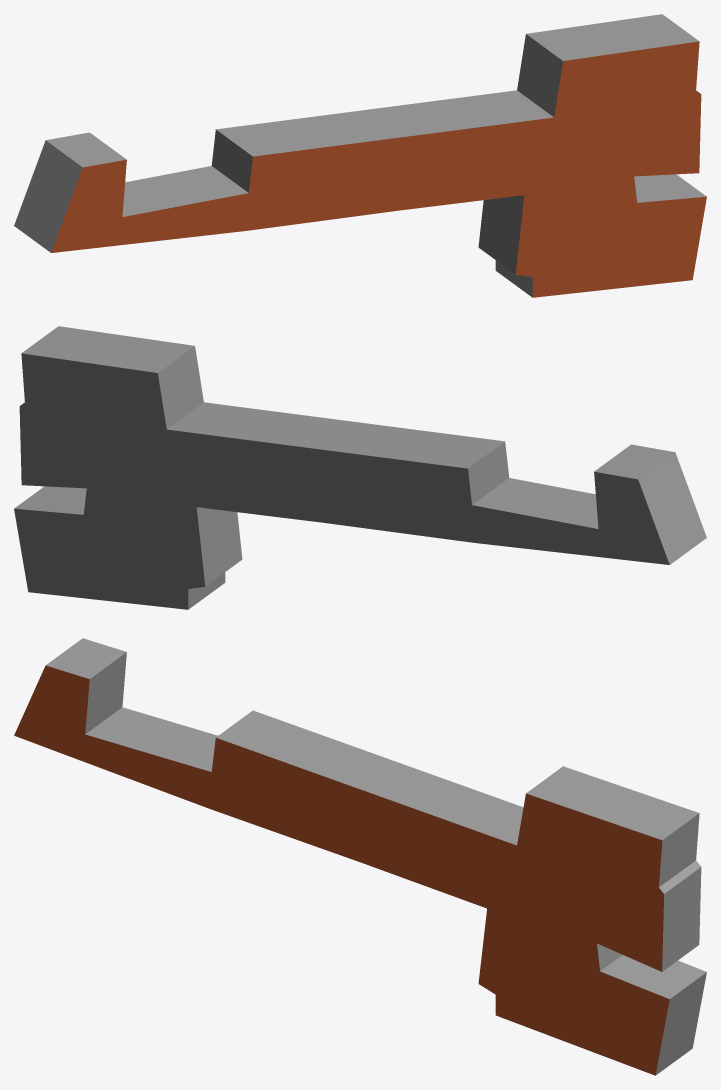
File: construction_4161_assumed_A_Casa_h6m.obj
The picture shows the model from 3 angles, top to bottom: view 1: azimuth 30°, elevation 25°; view 2: azimuth 150°, elevation 25°; view 3: azimuth 330°, elevation 25°; orthographic projection.
Visible parts, largest first — view 1: construction_4161_assumed_A_Casa; view 2: construction_4161_assumed_A_Casa; view 3: construction_4161_assumed_A_Casa.
Part boxes in pixels (x1,y1,x2,y2): construction_4161_assumed_A_Casa: (14, 14, 706, 297); construction_4161_assumed_A_Casa: (14, 326, 706, 609); construction_4161_assumed_A_Casa: (14, 638, 706, 1075).
Size of the model in its own units: 61.06 by 23.27 by 6.
